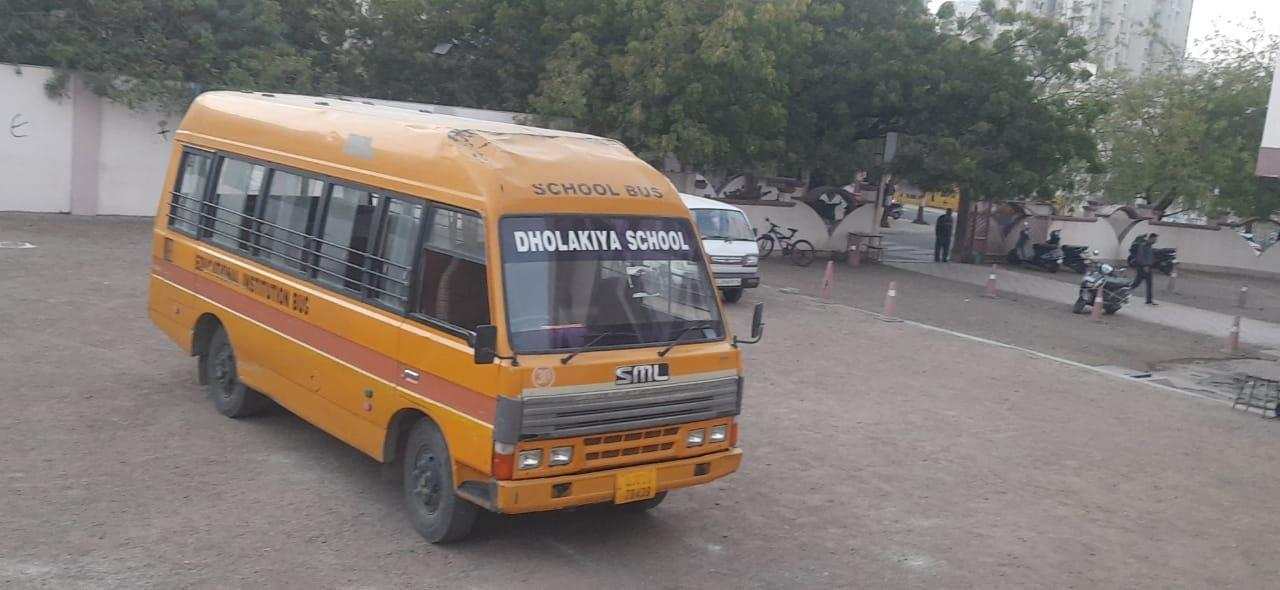Bus: (138, 58, 782, 560)
